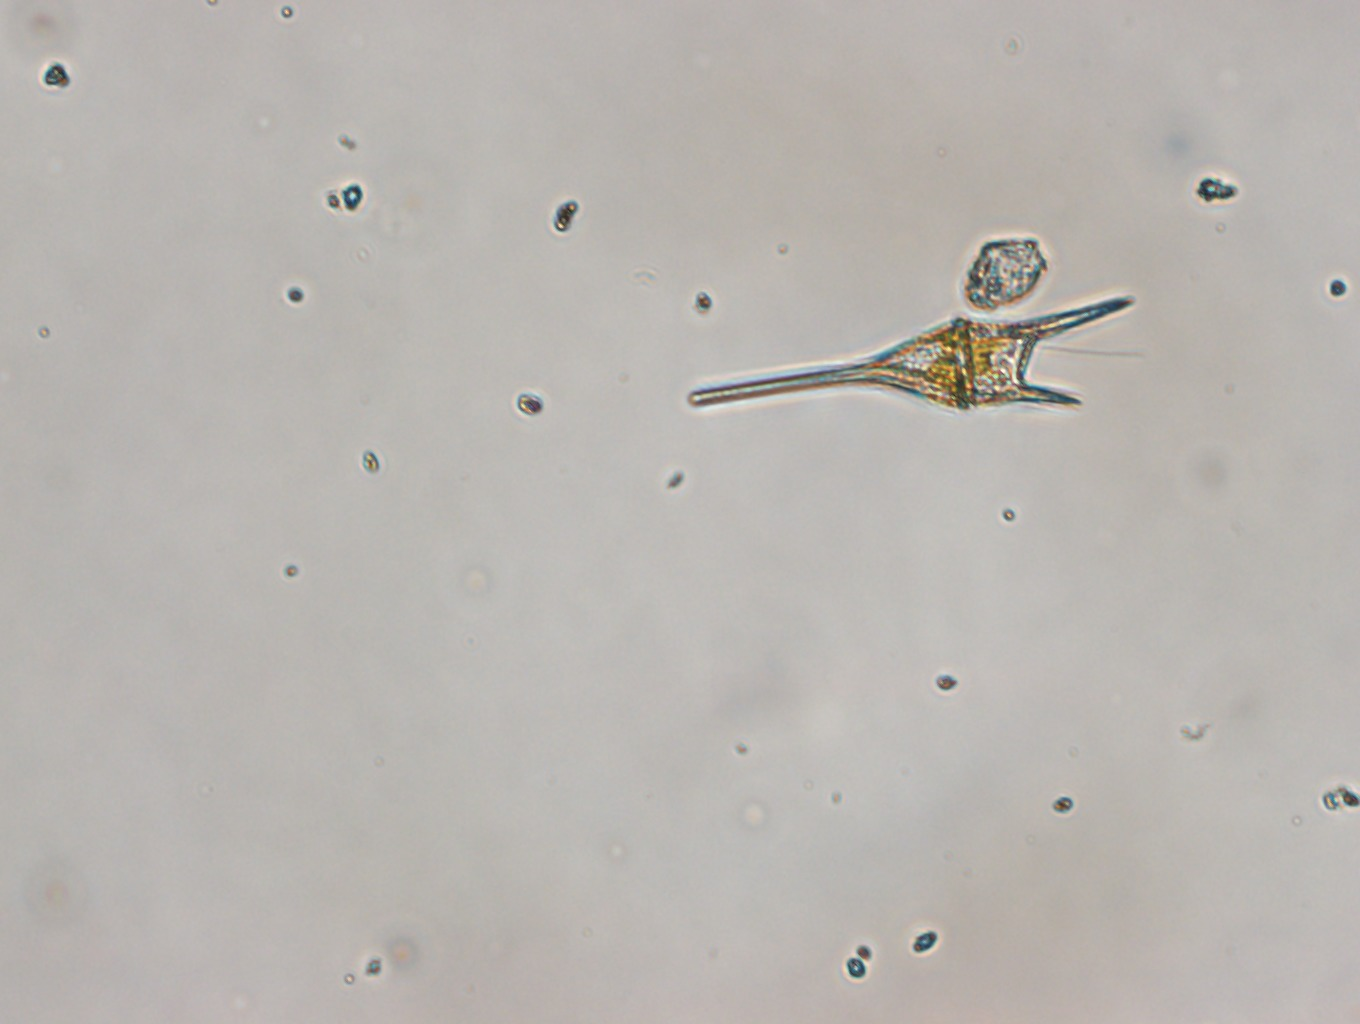ceratium furca: (687, 296, 1134, 414)
